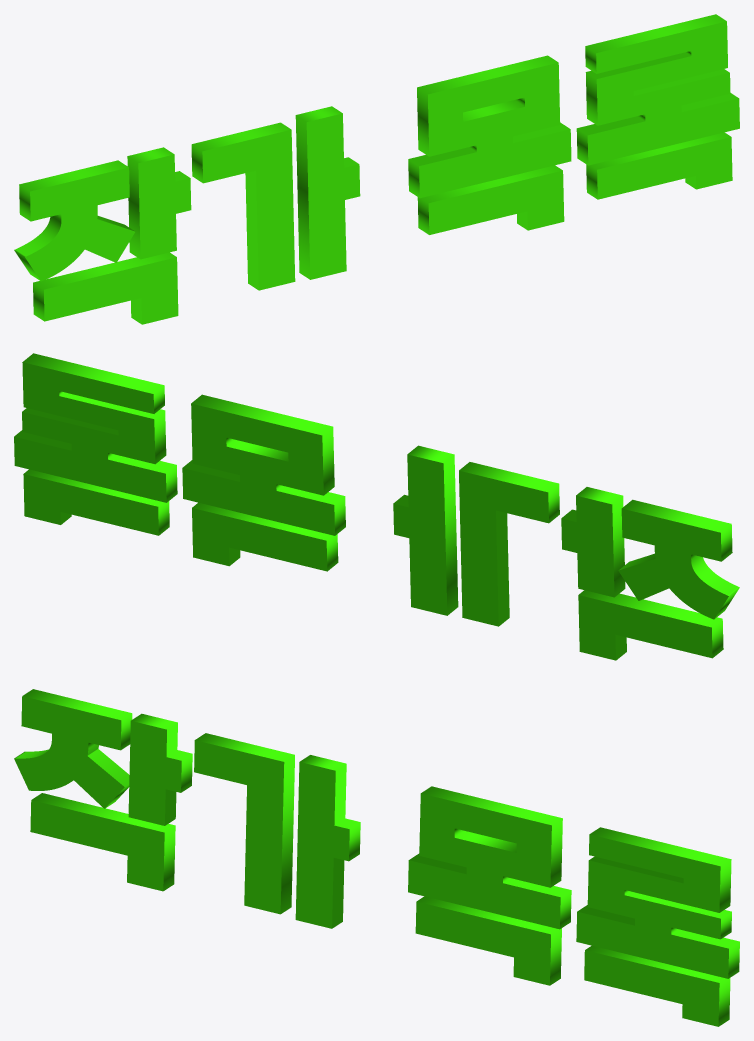
The picture shows the model from 3 angles, top to bottom: view 1: azimuth 30°, elevation 25°; view 2: azimuth 150°, elevation 25°; view 3: azimuth 330°, elevation 25°; orthographic projection.
Parts seen in each view (by area): view 1: 텍스트.001; view 2: 텍스트.001; view 3: 텍스트.001.
Part boxes in pixels (x1,y1,x2,y2): 텍스트.001: (14, 14, 739, 324); 텍스트.001: (14, 353, 739, 660); 텍스트.001: (14, 689, 739, 1026).
Bounding box in the file's own units: 3.4 × 0.7261 × 0.1214.
